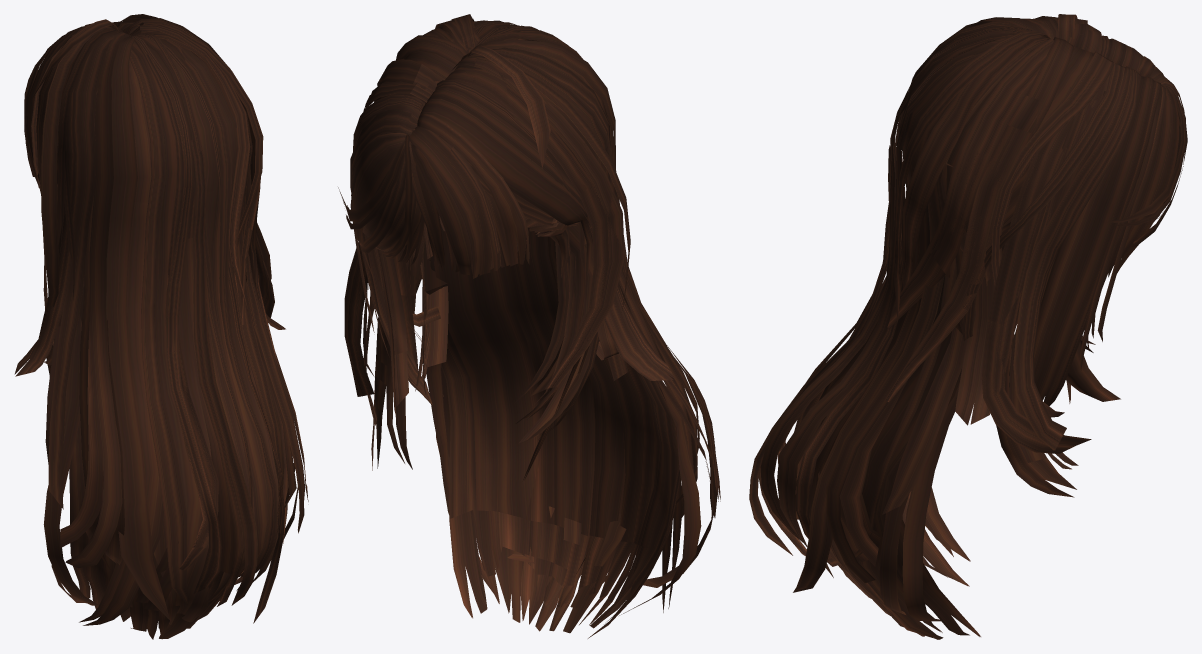
File: hair.fbx
The picture shows the model from 3 angles, left to right: view 1: azimuth 30°, elevation 25°; view 2: azimuth 150°, elevation 25°; view 3: azimuth 270°, elevation 25°; orthographic projection. The views are drawn at different scales.
Visible parts, largest first — view 1: hair_01_5; view 2: hair_01_5; view 3: hair_01_5.
Part boxes in pixels (x1=…): hair_01_5: x1=14, y1=14, x2=308, y2=639; hair_01_5: x1=338, y1=14, x2=720, y2=638; hair_01_5: x1=749, y1=14, x2=1187, y2=639.
Size of the model in its own units: 2.68 by 5.22 by 3.36.
